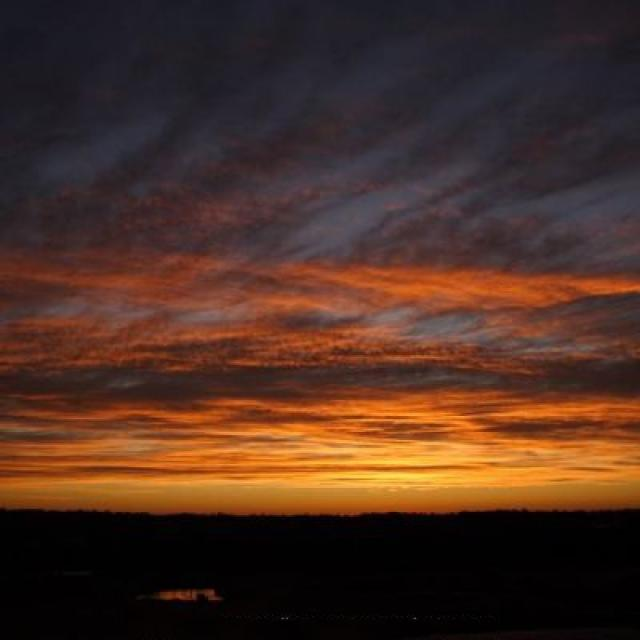As: (1, 58, 640, 459)
